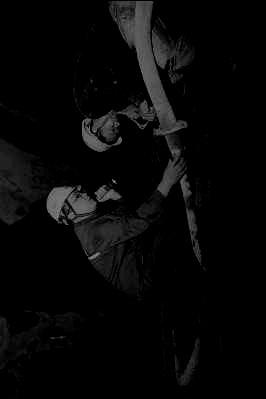helmet: (45, 185, 97, 226), (81, 109, 122, 152)
